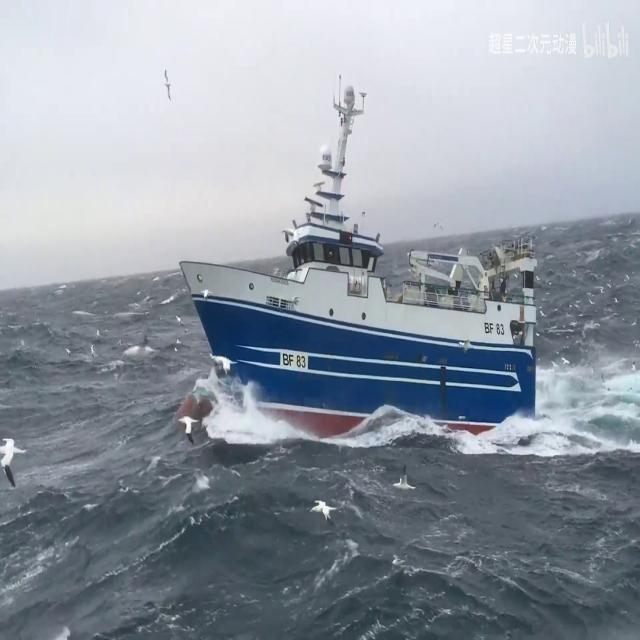houseboat: (168, 79, 546, 468)
